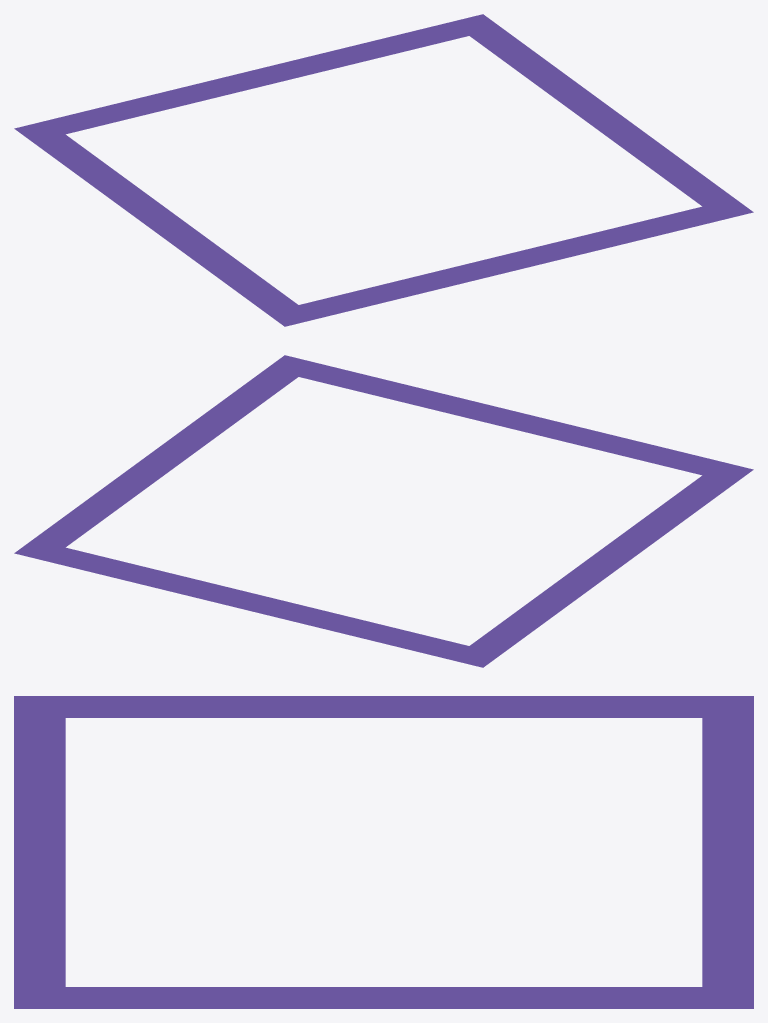
File: a_SWGutile_1.glb
3 views of the same model, one above another, from view 1: azimuth 30°, elevation 25°; view 2: azimuth 150°, elevation 25°; view 3: azimuth 270°, elevation 25° (orthographic). The views are drawn at different scales.
Parts seen in each view (by area): view 1: a_SWGutile_1; view 2: a_SWGutile_1; view 3: a_SWGutile_1.
Part boxes in pixels (box(x1,y1,x2,y2)): a_SWGutile_1: box(14, 14, 753, 326); a_SWGutile_1: box(14, 355, 753, 667); a_SWGutile_1: box(14, 696, 753, 1008).
Bounding box in the file's own units: 4.82 × 4.21e-07 × 4.82.
Materials: 1 (1 with a texture image).
